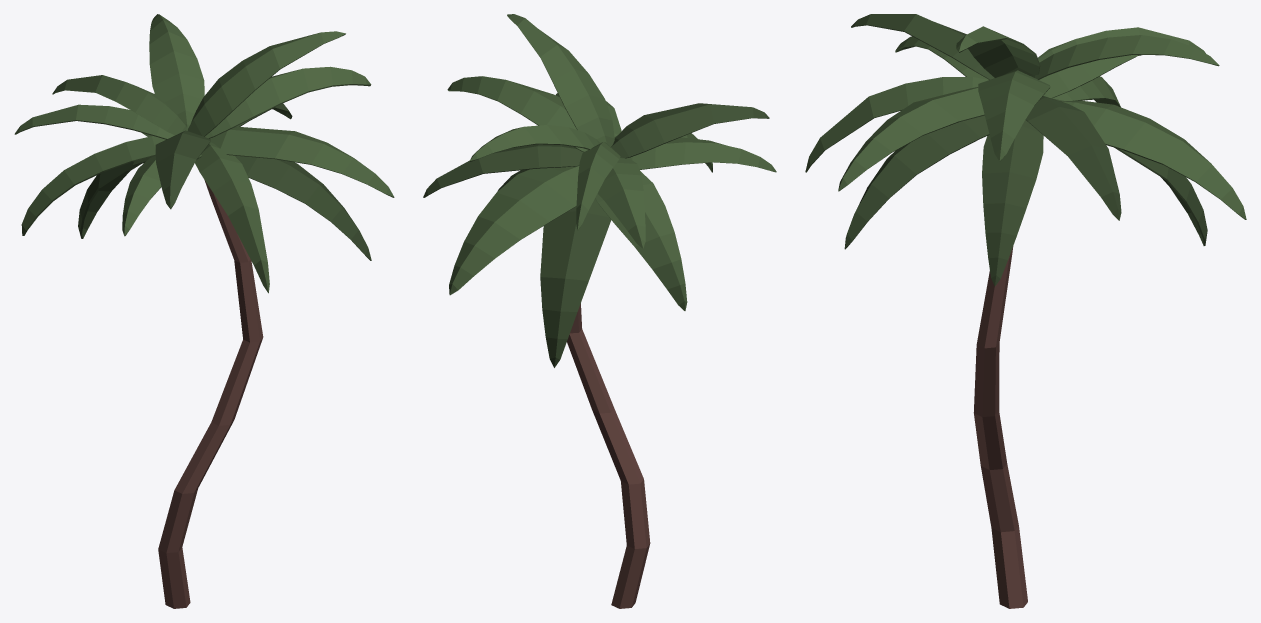
File: PalmTree_Harvested.gltf
The picture shows the model from 3 angles, left to right: view 1: azimuth 30°, elevation 25°; view 2: azimuth 150°, elevation 25°; view 3: azimuth 270°, elevation 25°; orthographic projection. The views are drawn at different scales.
Visible parts, largest first — view 1: PalmTree_Harvested; view 2: PalmTree_Harvested; view 3: PalmTree_Harvested.
Boxes of the visible parts, x1,y1,x2,y2 form: PalmTree_Harvested: (14, 14, 394, 608); PalmTree_Harvested: (423, 14, 776, 608); PalmTree_Harvested: (805, 14, 1246, 608).
Size of the model in its own units: 1.81 by 3.25 by 2.05.
